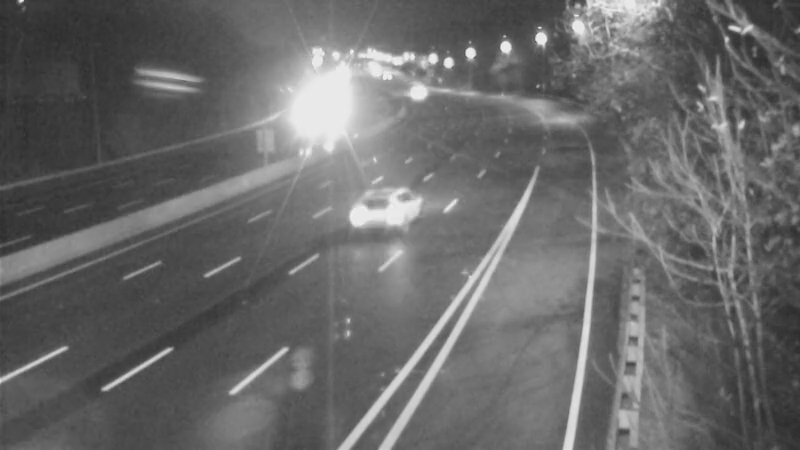vehicle: (340, 174, 420, 254), (393, 67, 443, 117)
